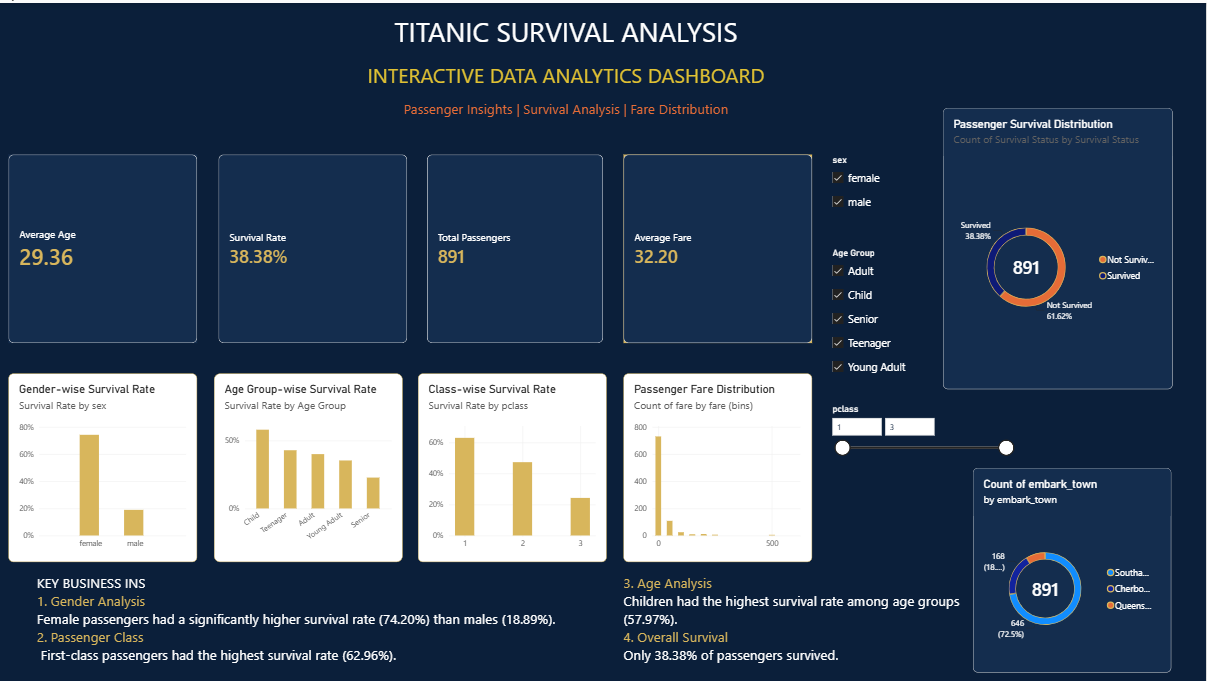

The page's visual inventory and layout, read from the dashboard file:
{"tool":"powerbi","page":{"name":"Page 1","canvas":[1920,1080],"ordinal":0},"visuals":[{"type":"cardVisual","fields":{"Data":["titanic_cleaned.Total Passengers"]},"box":[682.5,240,280,300],"z":0},{"type":"cardVisual","fields":{"Data":["titanic_cleaned.Survival Rate"]},"box":[350,240,300,300],"z":1000},{"type":"cardVisual","fields":{"Data":["titanic_cleaned.Average Age"]},"box":[17.5,240,300,300],"z":2000},{"type":"cardVisual","fields":{"Data":["titanic_cleaned.Average Fare"]},"box":[995,240,300,300],"z":3000},{"type":"clusteredColumnChart","title":"Gender-wise Survival Rate","fields":{"Category":["titanic_cleaned.sex"],"Y":["titanic_cleaned.Survival Rate"]},"box":[17.5,590,300,300],"z":4000},{"type":"clusteredColumnChart","title":"Class-wise Survival Rate","fields":{"Category":["titanic_cleaned.pclass"],"Y":["titanic_cleaned.Survival Rate"]},"box":[669.2,590,300,300],"z":5000},{"type":"clusteredColumnChart","title":"Age Group-wise Survival Rate","fields":{"Category":["titanic_cleaned.Age Group"],"Y":["titanic_cleaned.Survival Rate"]},"box":[343.3,590,300,300],"z":6000},{"type":"clusteredColumnChart","title":"Passenger Fare Distribution","fields":{"Category":["titanic_cleaned.fare (bins)"],"Y":["CountNonNull(titanic_cleaned.fare)"]},"box":[995,590,300,300],"z":7000},{"type":"slicer","fields":{"Values":["titanic_cleaned.sex"]},"box":[1320,240,300,300],"z":8000},{"type":"slicer","fields":{"Values":["titanic_cleaned.pclass"]},"box":[1320,637.5,300,300],"z":9000},{"type":"slicer","fields":{"Values":["titanic_cleaned.Age Group"]},"box":[1320,390,300,300],"z":10000},{"type":"textbox","box":[30,17.5,1745,195],"z":11000},{"type":"textbox","box":[62.5,907.5,840,172.5],"z":11001},{"type":"donutChart","title":"Passenger Survival Distribution","fields":{"Category":["titanic_cleaned.Survival Status"],"Y":["CountNonNull(titanic_cleaned.Survival Status)"]},"box":[1503.3,166.7,365,447.5],"z":11002},{"type":"textbox","box":[995,907.5,557.5,157.5],"z":11003},{"type":"donutChart","fields":{"Category":["titanic_cleaned.embark_town"],"Y":["CountNonNull(titanic_cleaned.embark_town)"]},"box":[1550,740,315,325],"z":11004}]}

Visuals, with their boxes in screenshot pixels (x1, y1, x2, y2), scaled from the page's 1920x1080 canvas onto the 1207x681 screenshot:
cardVisual - titanic_cleaned.Total Passengers: left=429, top=151, right=605, bottom=340
cardVisual - titanic_cleaned.Survival Rate: left=220, top=151, right=409, bottom=340
cardVisual - titanic_cleaned.Average Age: left=11, top=151, right=200, bottom=340
cardVisual - titanic_cleaned.Average Fare: left=626, top=151, right=814, bottom=340
"Gender-wise Survival Rate" clusteredColumnChart: left=11, top=372, right=200, bottom=561
"Class-wise Survival Rate" clusteredColumnChart: left=421, top=372, right=609, bottom=561
"Age Group-wise Survival Rate" clusteredColumnChart: left=216, top=372, right=404, bottom=561
"Passenger Fare Distribution" clusteredColumnChart: left=626, top=372, right=814, bottom=561
slicer - titanic_cleaned.sex: left=830, top=151, right=1018, bottom=340
slicer - titanic_cleaned.pclass: left=830, top=402, right=1018, bottom=591
slicer - titanic_cleaned.Age Group: left=830, top=246, right=1018, bottom=435
textbox: left=19, top=11, right=1116, bottom=134
textbox: left=39, top=572, right=567, bottom=680
"Passenger Survival Distribution" donutChart: left=945, top=105, right=1174, bottom=387
textbox: left=626, top=572, right=976, bottom=672
donutChart - titanic_cleaned.embark_town x CountNonNull(titanic_cleaned.embark_town): left=974, top=467, right=1172, bottom=672
